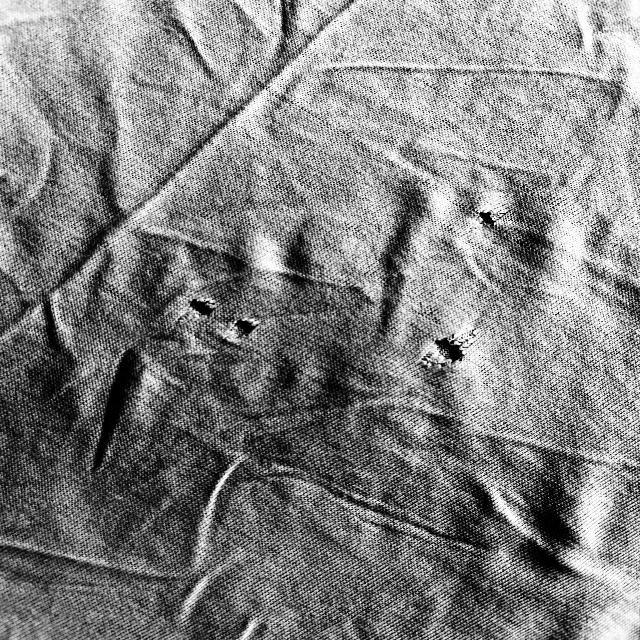Hole: (180, 285, 274, 351), (460, 190, 514, 241), (415, 327, 477, 364)
